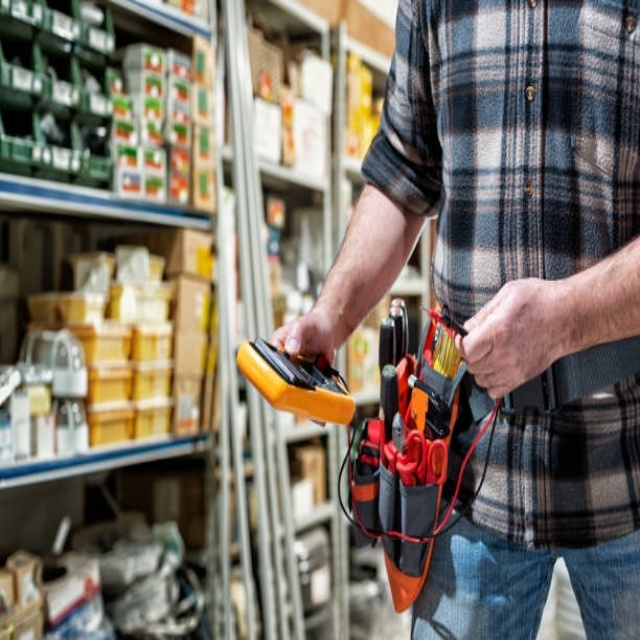Sin_guantes: (454, 275, 550, 395), (272, 307, 339, 390)
